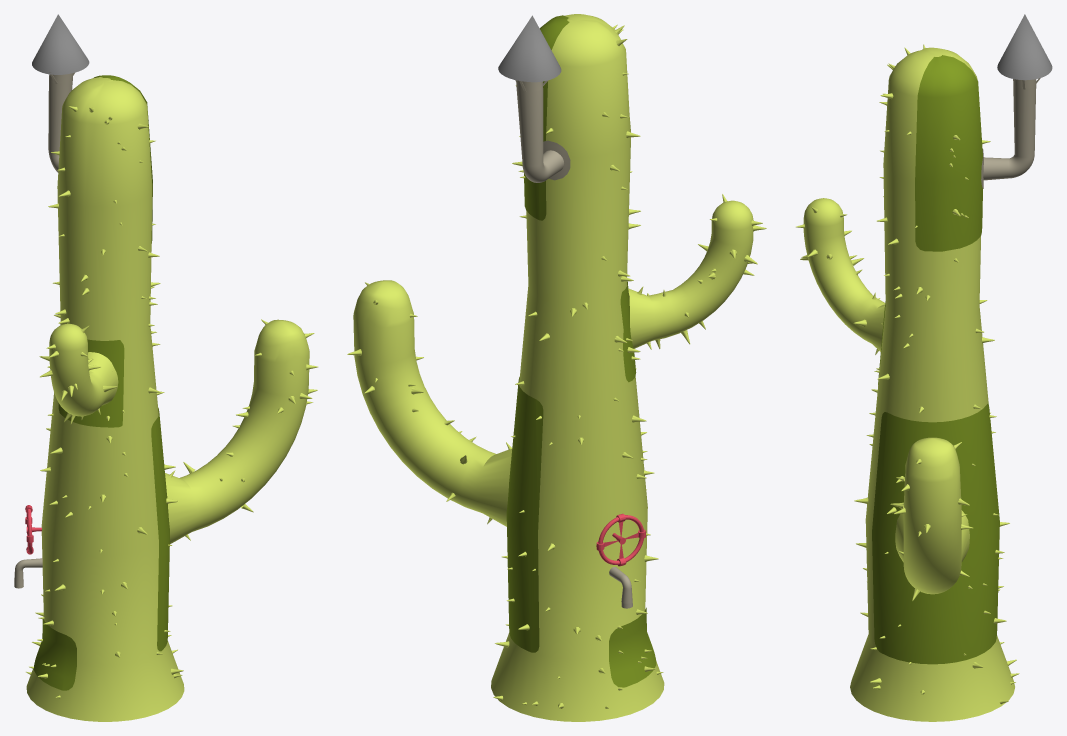
The model's file is Gamejam2Kaktus.fbx.
The picture shows the model from 3 angles, left to right: view 1: azimuth 30°, elevation 25°; view 2: azimuth 150°, elevation 25°; view 3: azimuth 270°, elevation 25°; orthographic projection. The views are drawn at different scales.
Visible parts, largest first — view 1: Cylinder, Cylinder.001, Cylinder.002, Cylinder.003, Spike.001, Cylinder.004, Cylinder.005, Plane; view 2: Cylinder, Cylinder.001, Cylinder.004, Cylinder.002, Cylinder.003, Spike.001, Cylinder.005, Cylinder.006, Torus, Plane; view 3: Cylinder, Cylinder.004, Cylinder.006, Cylinder.001, Cylinder.002, Cylinder.003, Spike.001.
Part boxes in pixels (<box>): Cylinder: <box>26,77,184,721</box>; Cylinder.001: <box>165,319,309,544</box>; Cylinder.002: <box>49,323,118,416</box>; Cylinder.003: <box>32,14,89,172</box>; Spike.001: <box>26,106,318,698</box>; Cylinder.004: <box>151,407,169,651</box>; Cylinder.005: <box>33,618,76,690</box>; Plane: <box>58,339,124,427</box>; Cylinder: <box>491,14,664,721</box>; Cylinder.001: <box>353,280,512,526</box>; Cylinder.004: <box>506,377,543,652</box>; Cylinder.002: <box>628,200,753,348</box>; Cylinder.003: <box>498,15,563,182</box>; Spike.001: <box>347,24,766,708</box>; Cylinder.005: <box>609,607,656,687</box>; Cylinder.006: <box>524,15,569,220</box>; Torus: <box>596,513,645,566</box>; Plane: <box>620,281,636,382</box>; Cylinder: <box>850,47,1014,721</box>; Cylinder.004: <box>872,403,999,664</box>; Cylinder.006: <box>915,55,982,251</box>; Cylinder.001: <box>895,437,969,594</box>; Cylinder.002: <box>803,198,885,351</box>; Cylinder.003: <box>983,14,1052,180</box>; Spike.001: <box>796,44,1019,704</box>.
Bounding box in the file's own units: 127 × 241 × 83.54.
